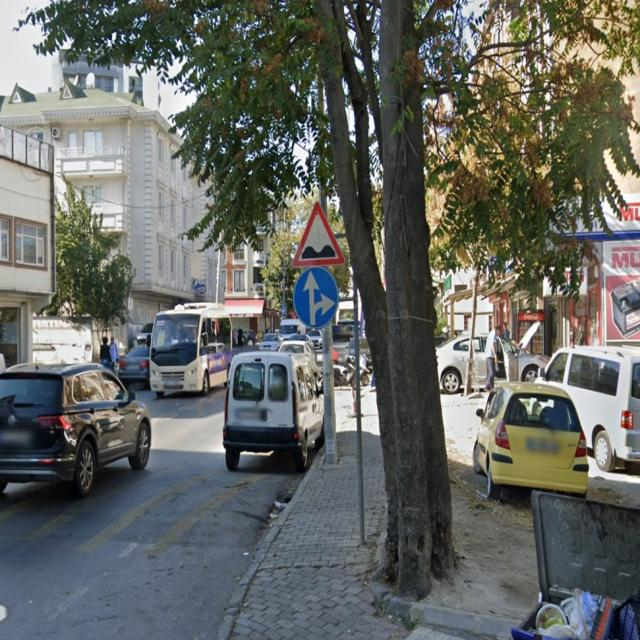ilerisag: (292, 266, 338, 329)
